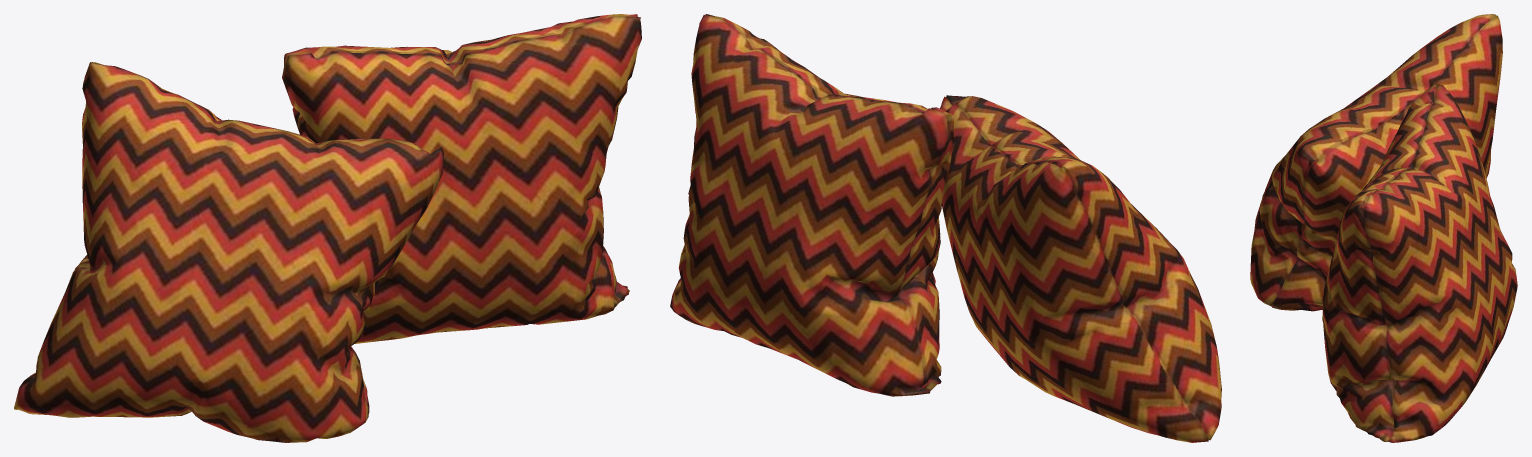
File: throw_pillows_01.glb
3 renders of one model, left to right at view 1: azimuth 30°, elevation 25°; view 2: azimuth 150°, elevation 25°; view 3: azimuth 270°, elevation 25°, orthographic. The views are drawn at different scales.
Parts seen in each view (by area): view 1: throw_pillows_01; view 2: throw_pillows_01; view 3: throw_pillows_01.
Part boxes in pixels (box(x1,y1,x2,y2)): throw_pillows_01: box(14, 14, 641, 442); throw_pillows_01: box(670, 14, 1221, 442); throw_pillows_01: box(1250, 14, 1517, 442).
Bounding box in the file's own units: 0.9401 × 0.4502 × 0.4519.
Materials: 1 (1 with a texture image).
